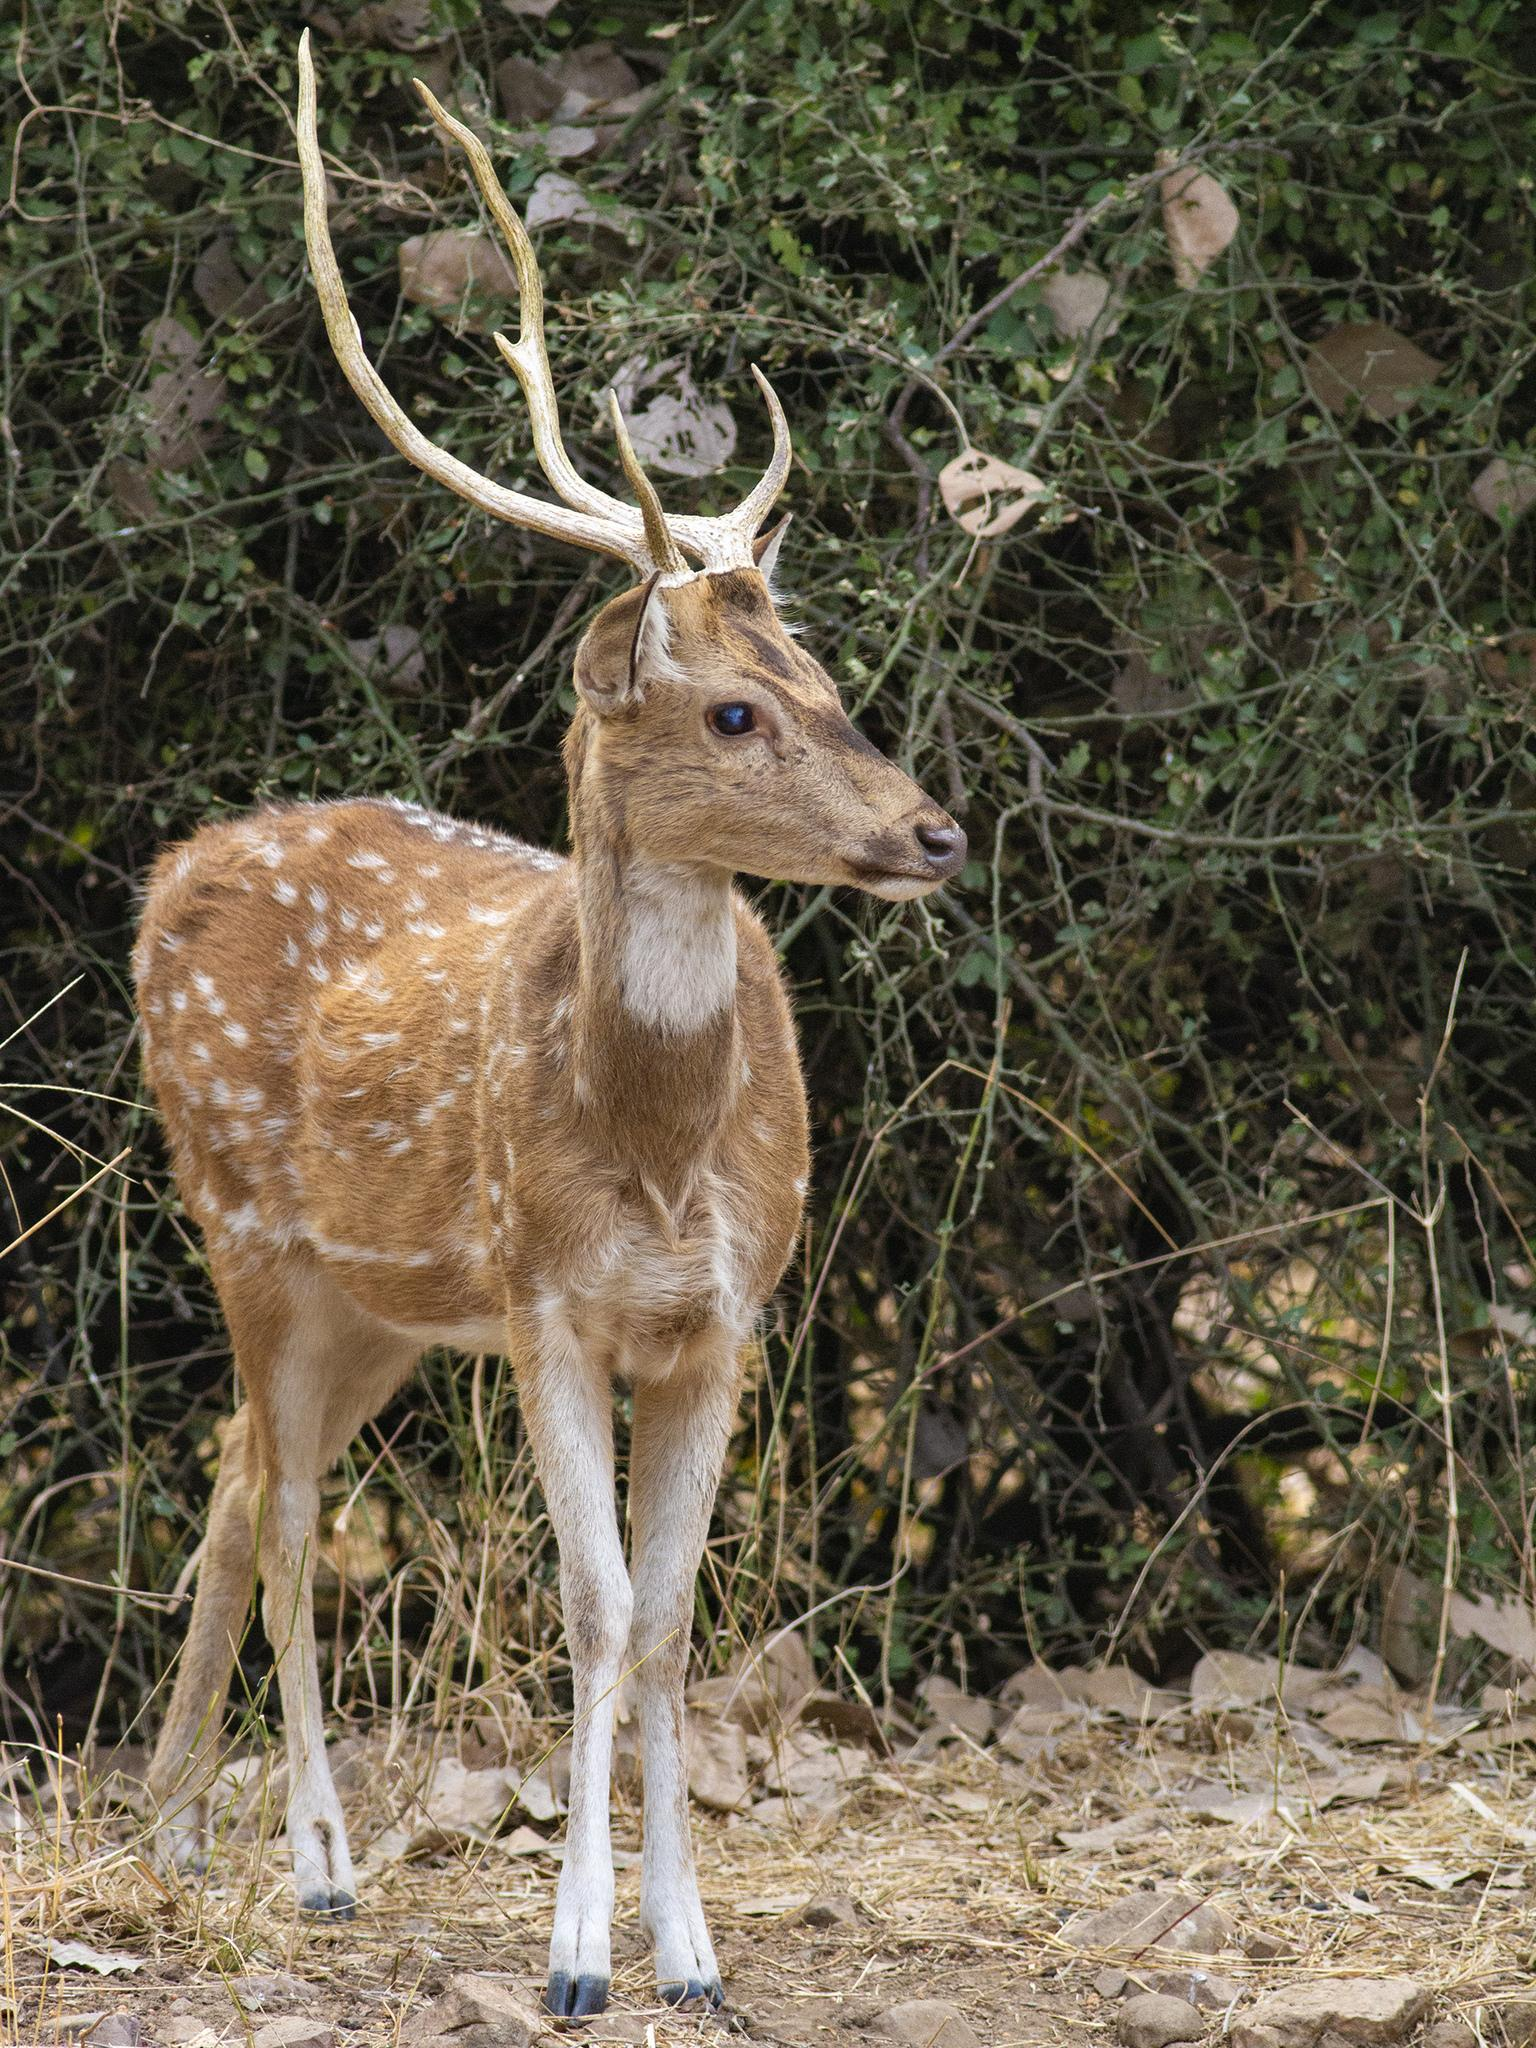Deer: (134, 32, 966, 2016)
